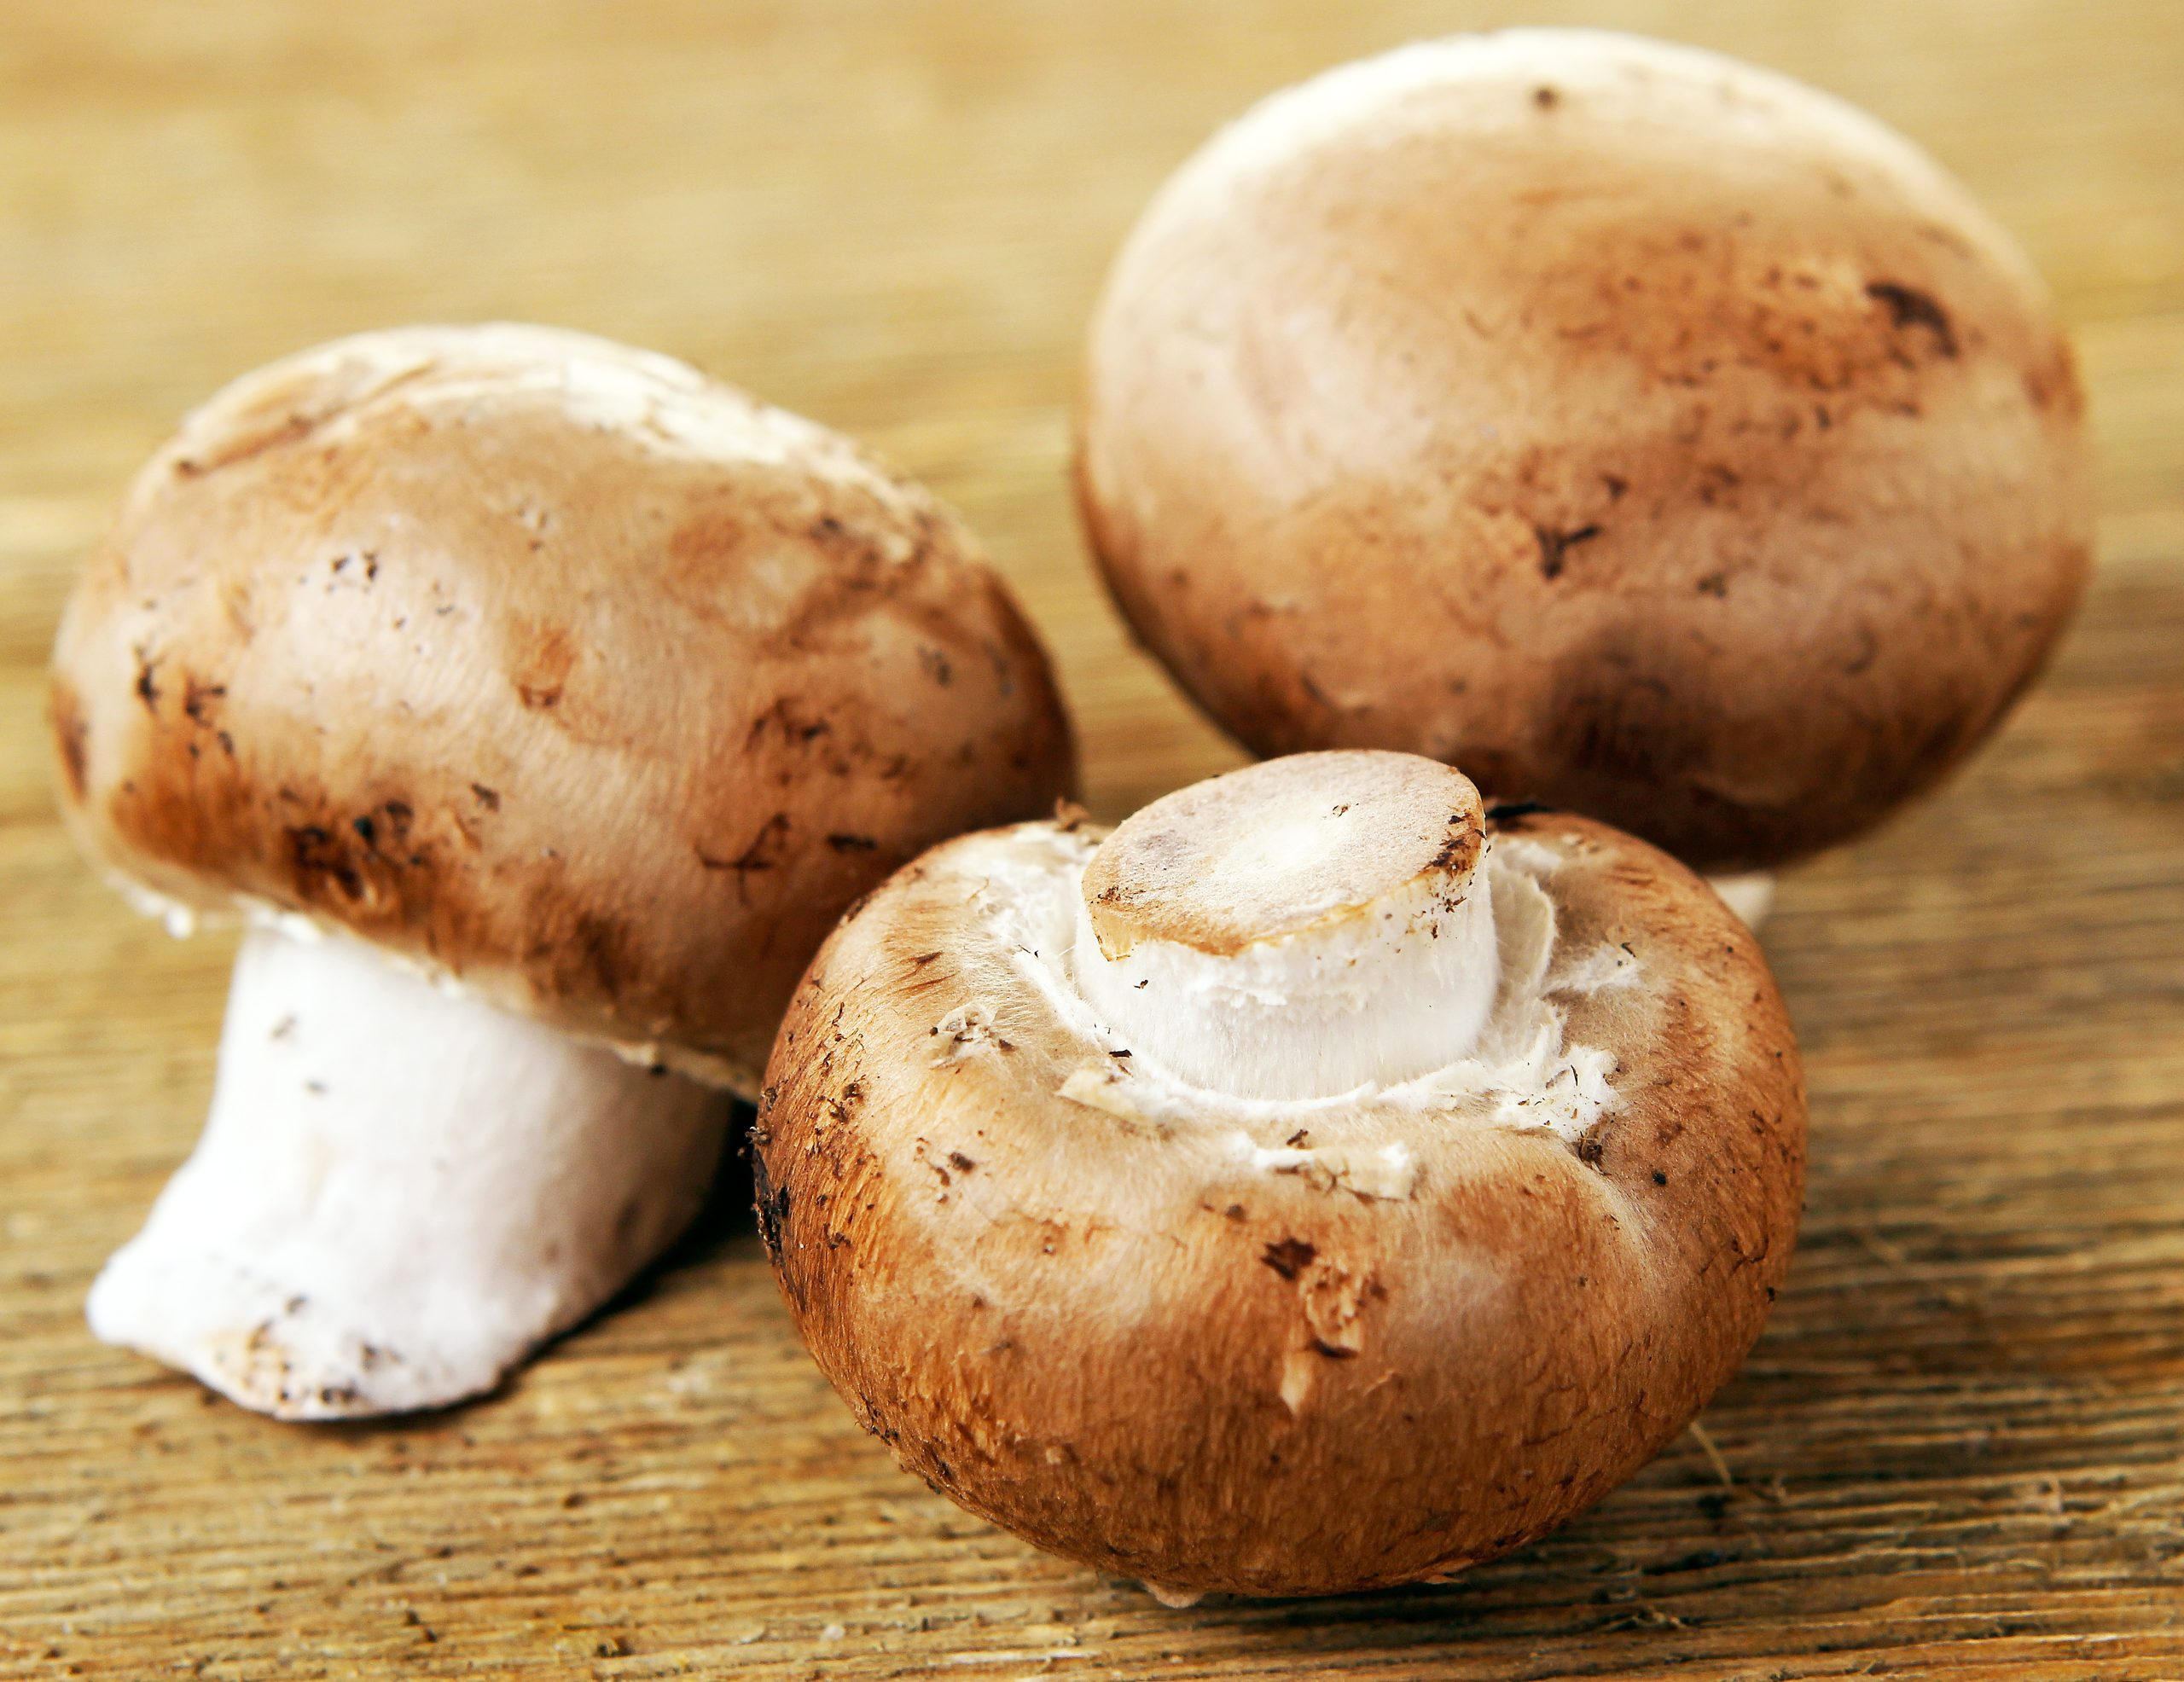Mushroom: (25, 314, 1087, 1470), (726, 719, 1866, 1645), (1057, 19, 2087, 975)
